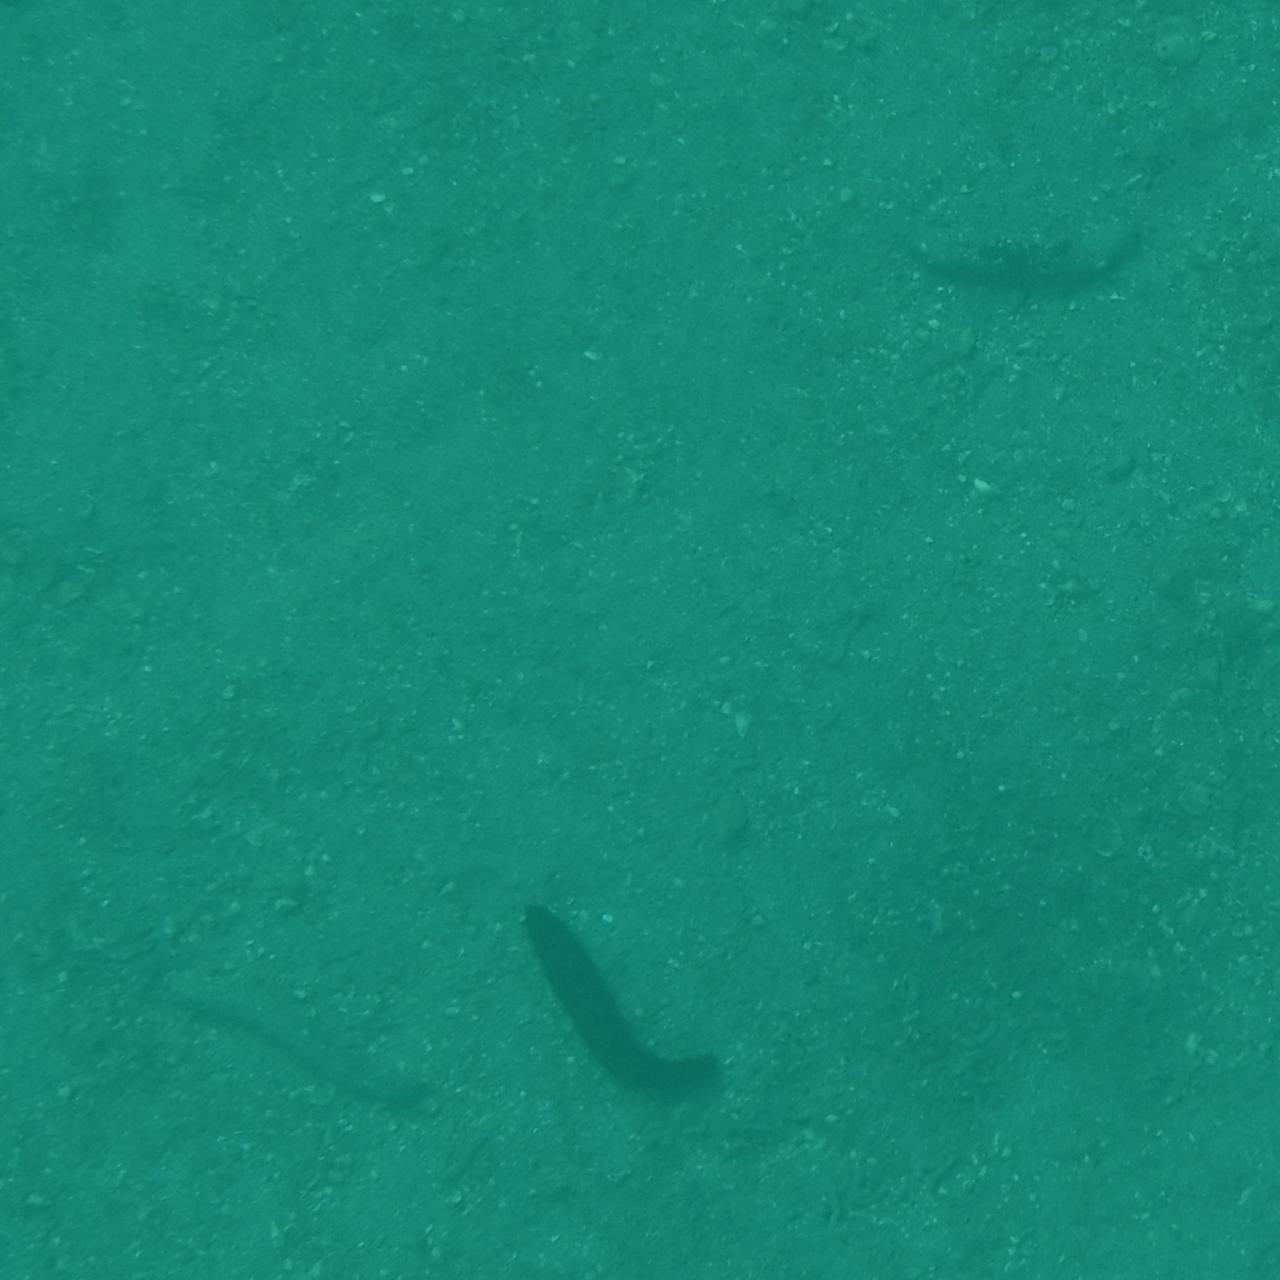Holothuria tubulosa: (502, 894, 756, 1108), (128, 958, 420, 1102), (858, 203, 1156, 297)
